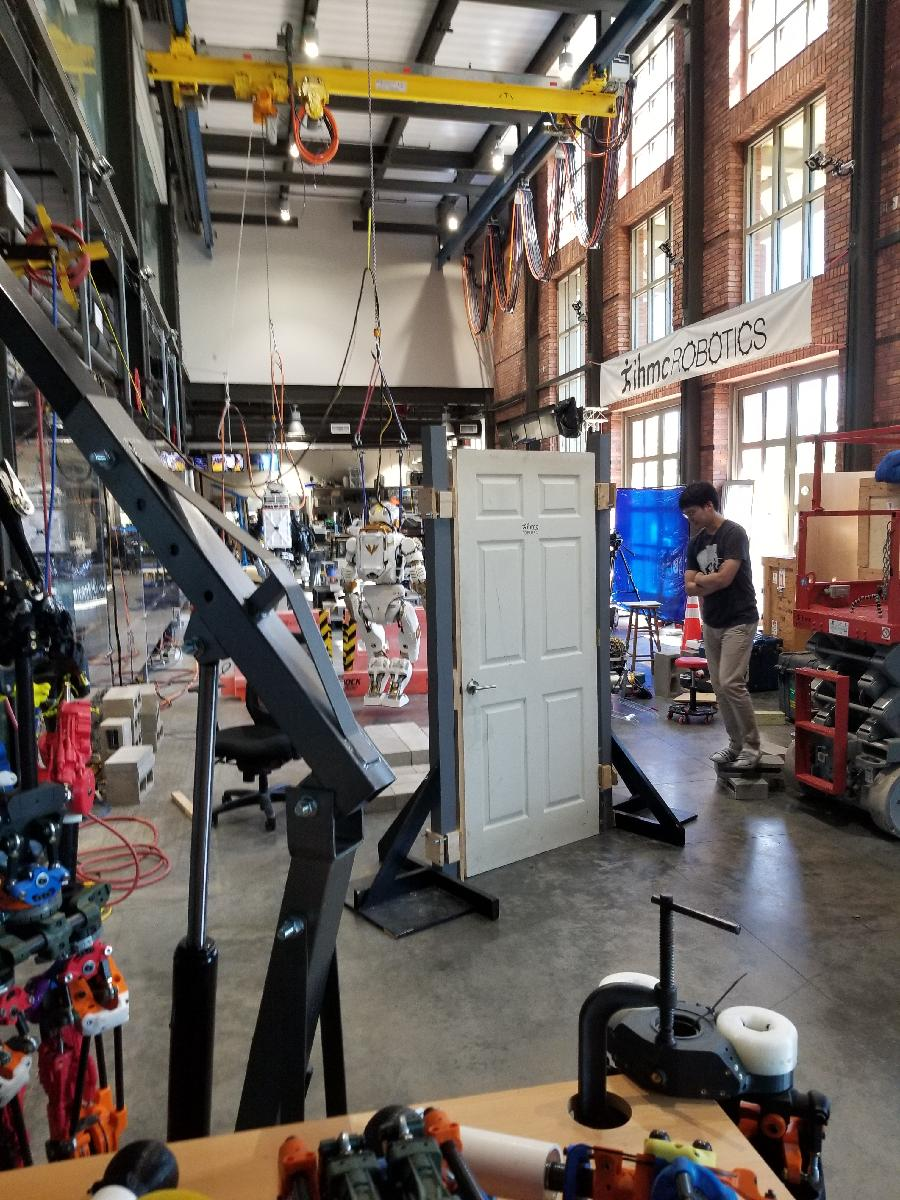door: (451, 446, 603, 883)
doorHandle: (461, 676, 502, 703)
